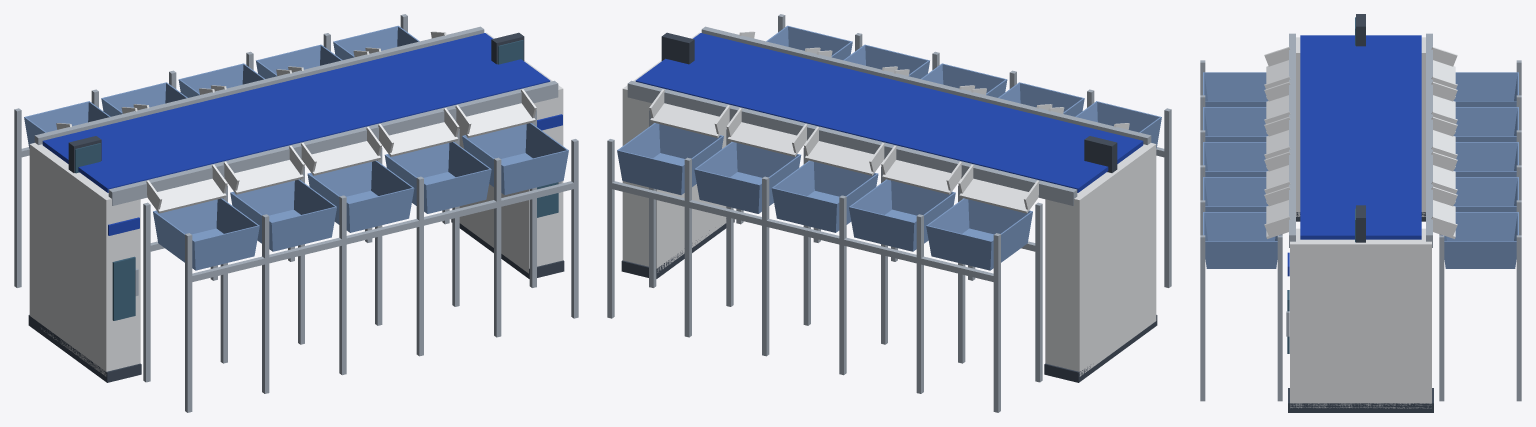
Rendered from SM_MPR_SorterShort10_LOD1.fbx.
The picture shows the model from 3 angles, left to right: view 1: azimuth 30°, elevation 25°; view 2: azimuth 150°, elevation 25°; view 3: azimuth 270°, elevation 25°; orthographic projection. The views are drawn at different scales.
Visible parts, largest first — view 1: SM_MPR_SorterShort10_LOD1; view 2: SM_MPR_SorterShort10_LOD1; view 3: SM_MPR_SorterShort10_LOD1.
Part boxes in pixels (x1,y1,x2,y2): SM_MPR_SorterShort10_LOD1: (14, 14, 578, 412); SM_MPR_SorterShort10_LOD1: (607, 14, 1171, 412); SM_MPR_SorterShort10_LOD1: (1200, 14, 1521, 412).
Bounding box in the file's own units: 276 × 181 × 123.
